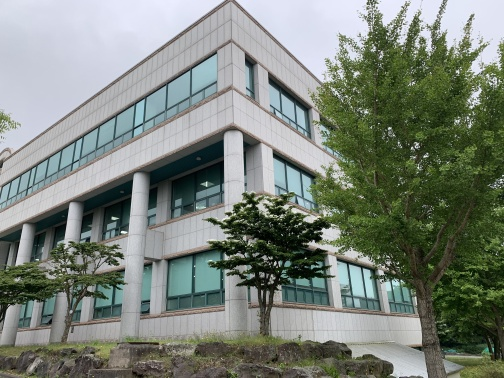Second Library: (4, 25, 410, 357)
